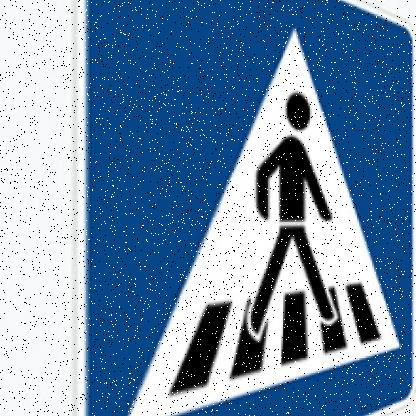Pedestrian Crossing: (73, 1, 416, 416)
